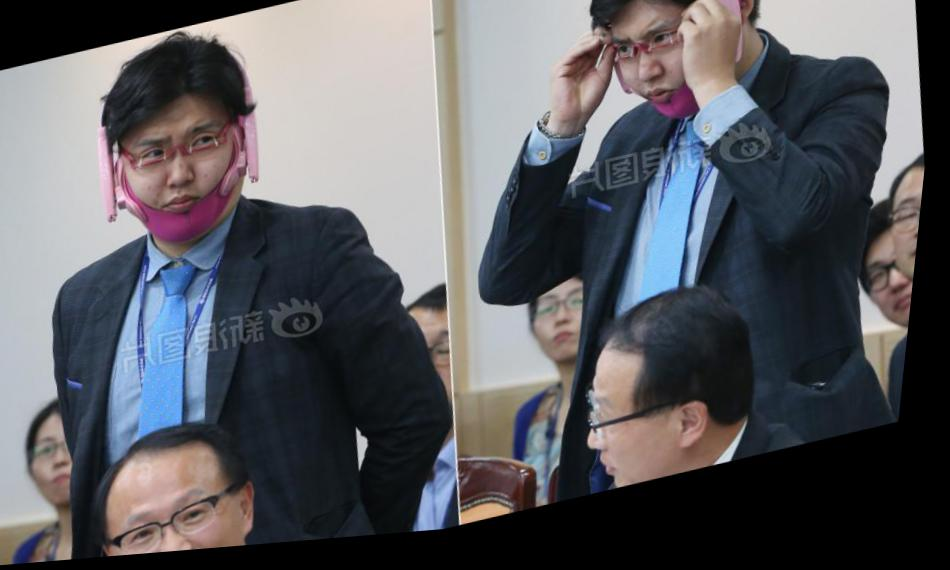NONE: (583, 371, 722, 506), (122, 474, 261, 559), (854, 246, 925, 356), (30, 418, 112, 511), (534, 293, 609, 371), (883, 201, 929, 305)
WRONG: (115, 113, 259, 255), (594, 5, 732, 140)
